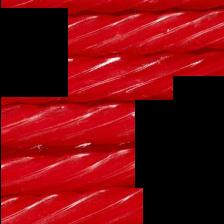red: (0, 98, 224, 147)
